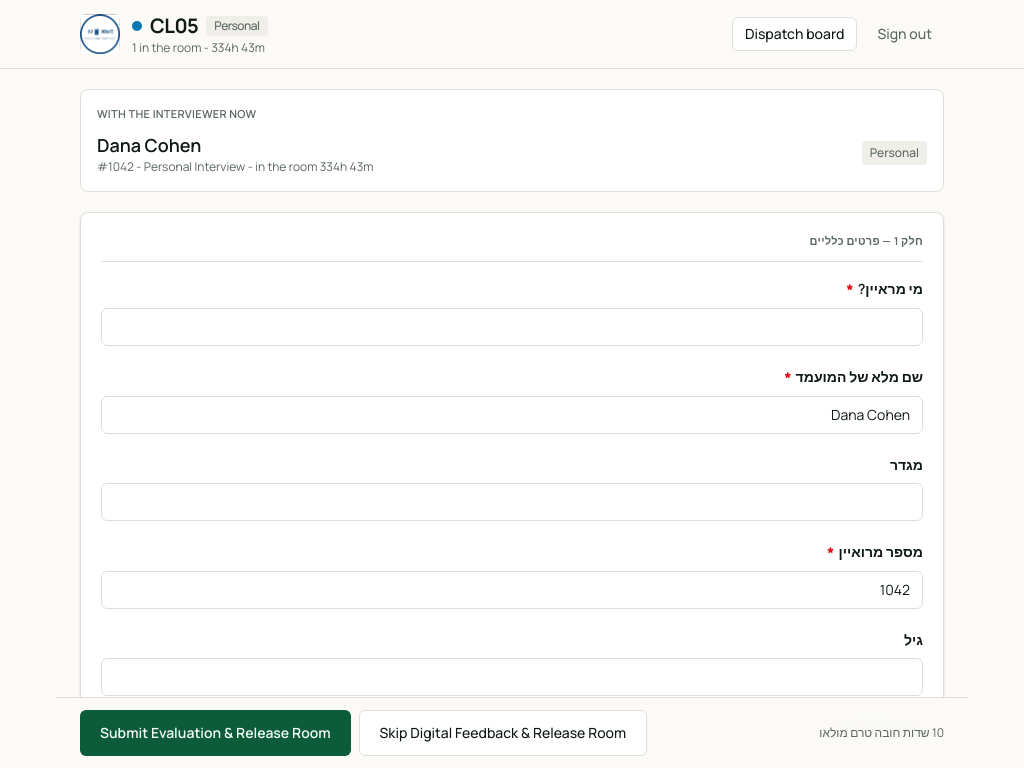
Test case: RoomView — filing the evaluation › releases the room without filing anything when the feedback is skipped
Check: the text "מי מראיין?" is shown, box [858,278,923,301]
Step 1. Click the button "Skip Digital Feedback & Release Room" → point(503, 733), box [358,710,647,756]
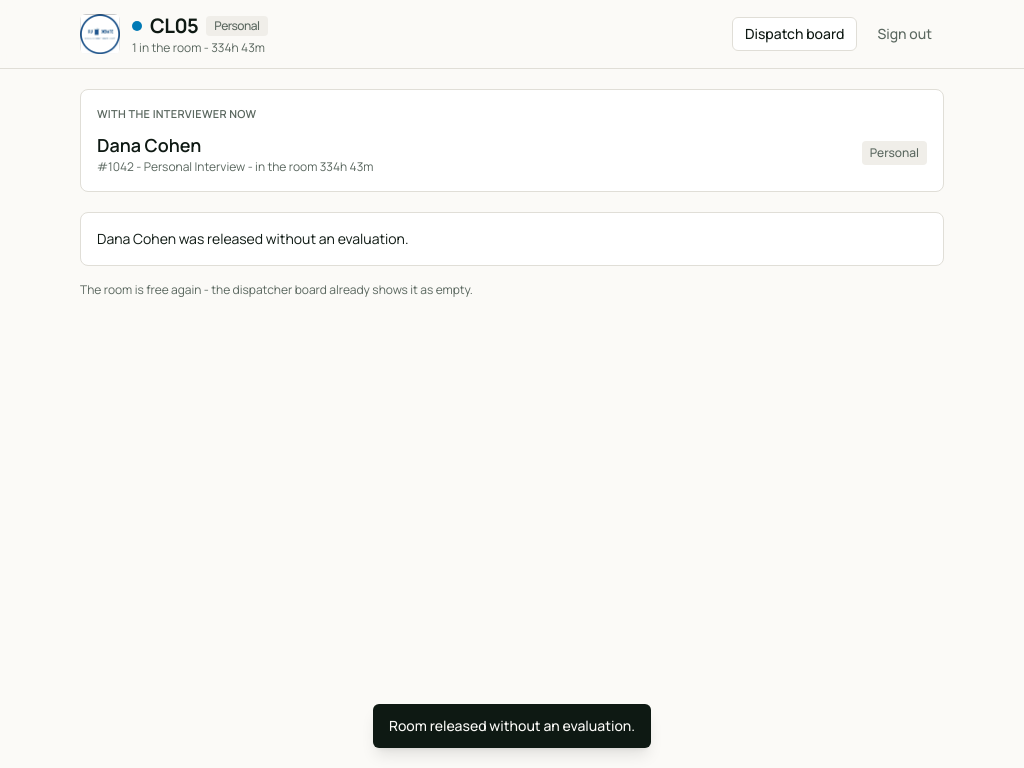
Check: the text "Dana Cohen was released without an evaluation." is shown, box [97,228,408,248]
